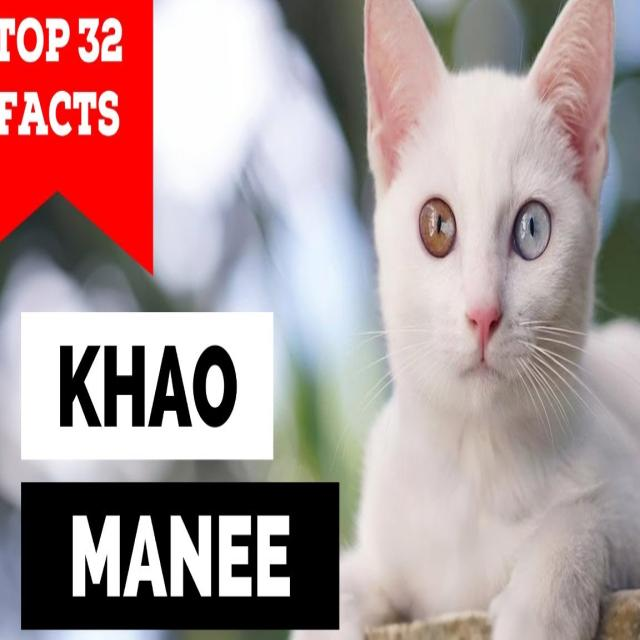Khao Manee: (339, 0, 640, 640)
